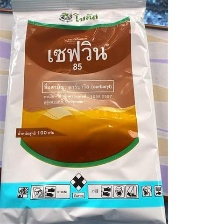insecticide: (0, 0, 168, 223)
